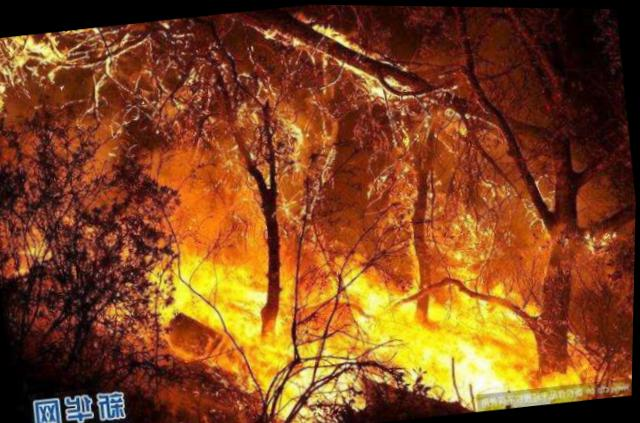fire: (112, 162, 636, 422), (274, 10, 421, 121), (0, 28, 88, 110)
